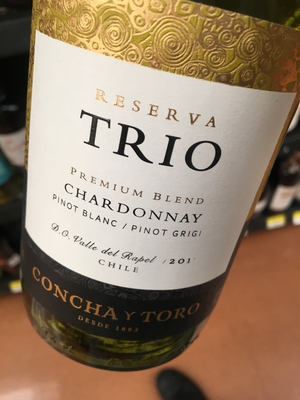trio chardonnay: (23, 2, 300, 371)
